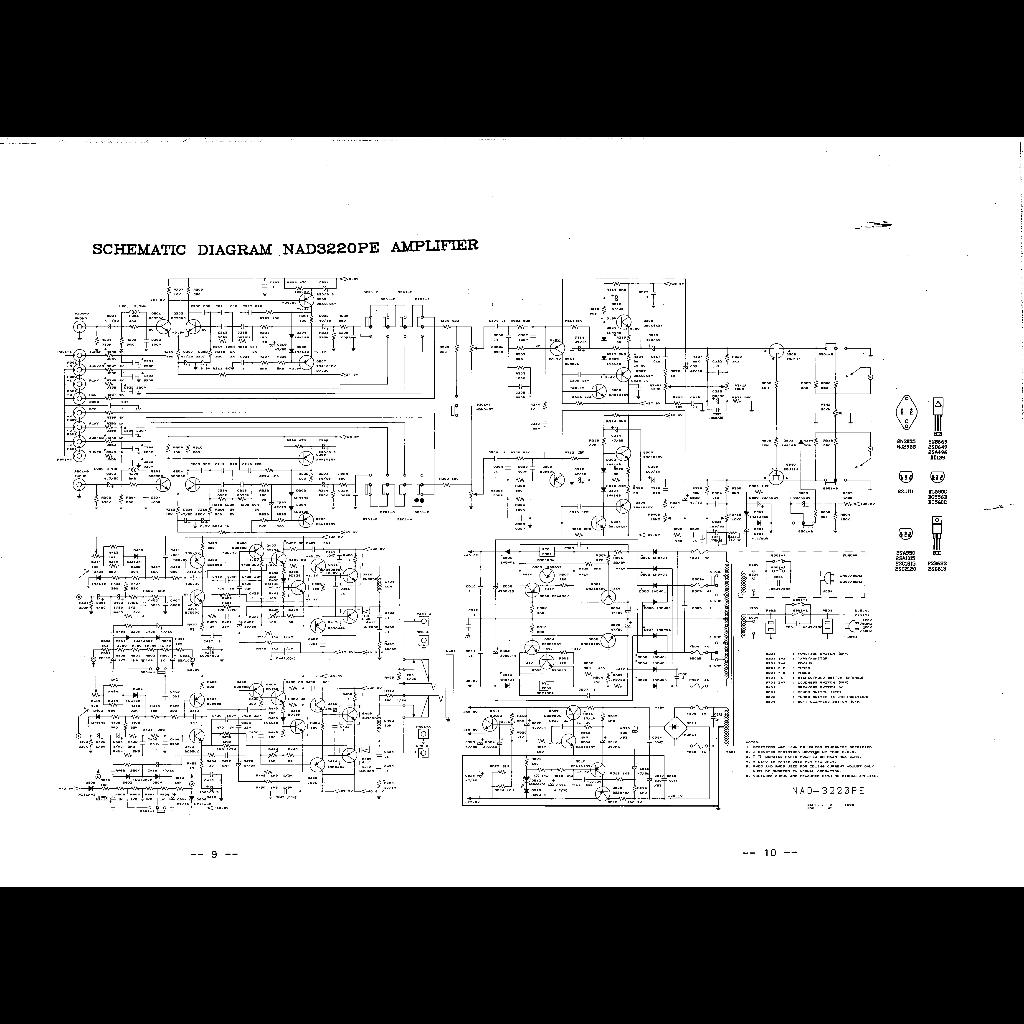Diagram: (52, 272, 956, 830)
